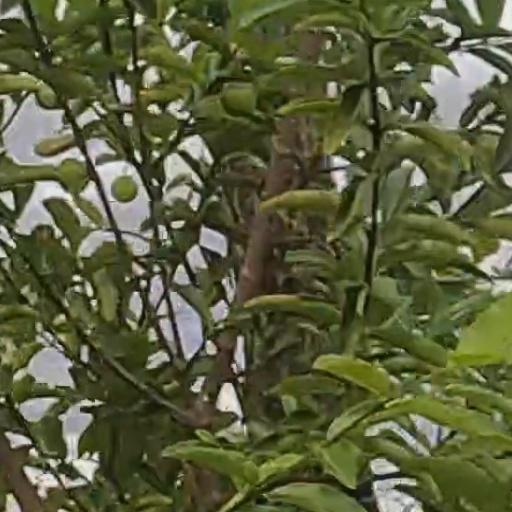acerola_verde: (113, 178, 138, 202)
